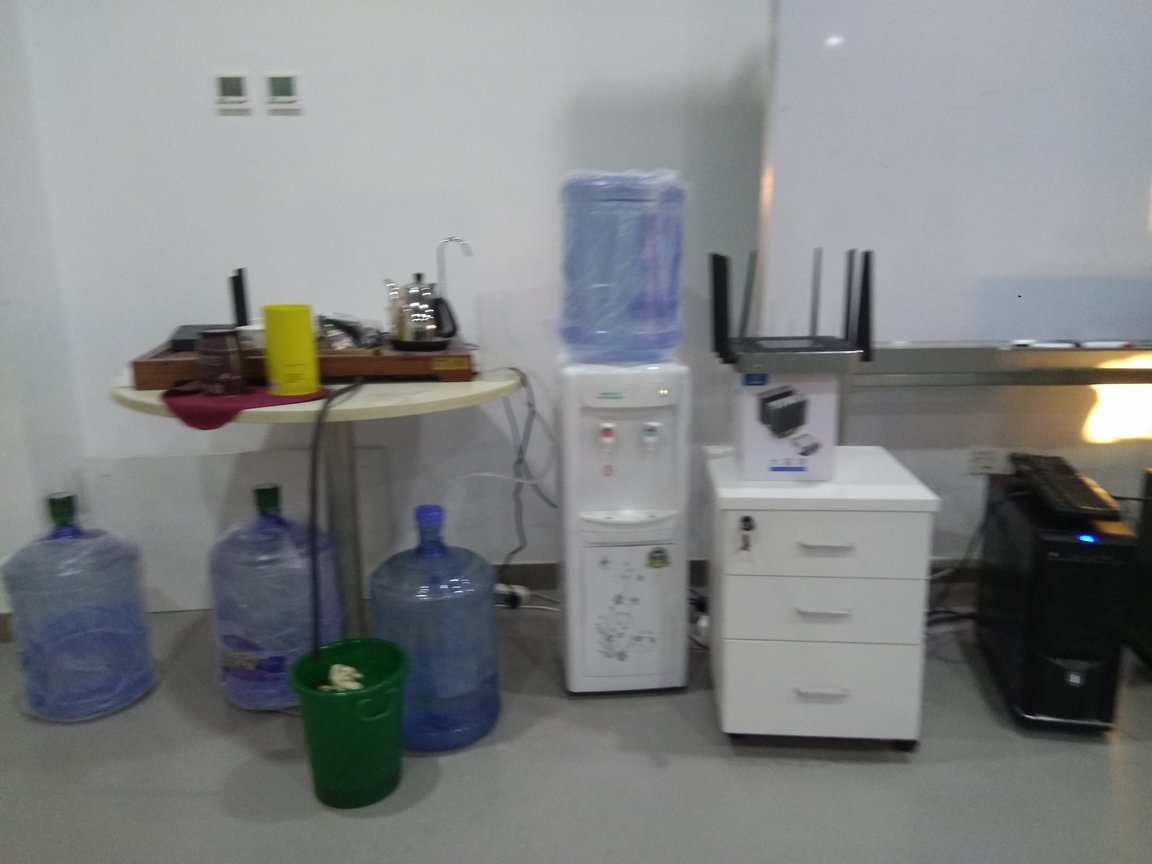computer: (980, 471, 1128, 738)
drawer chest: (700, 435, 934, 764)
scuttlebutt: (8, 491, 157, 724), (374, 508, 507, 767), (213, 485, 344, 720), (559, 172, 694, 372)
water dispenser: (558, 341, 697, 704)
